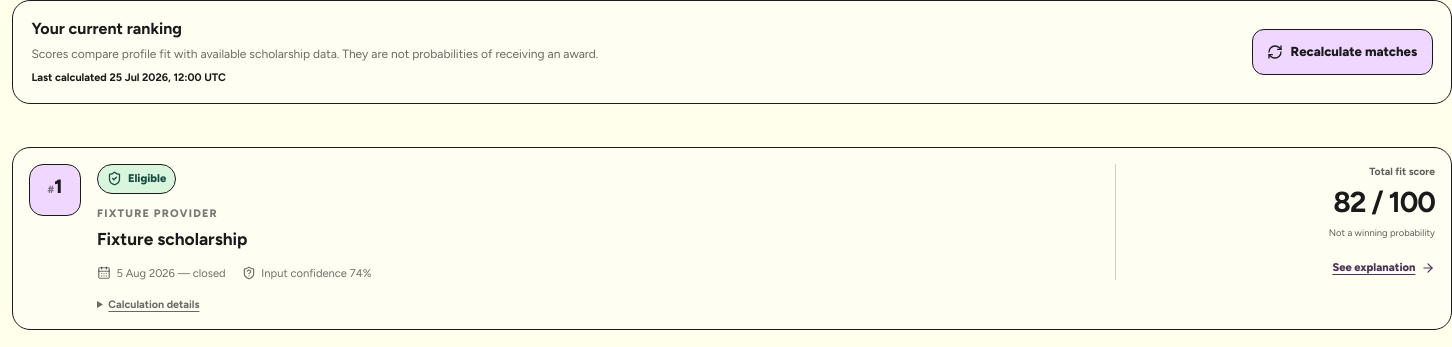
Test: ranked match list › provides actionable rate-limit feedback
Click the button "Recalculate matches" at (1342, 52), box [1252,29,1433,75]
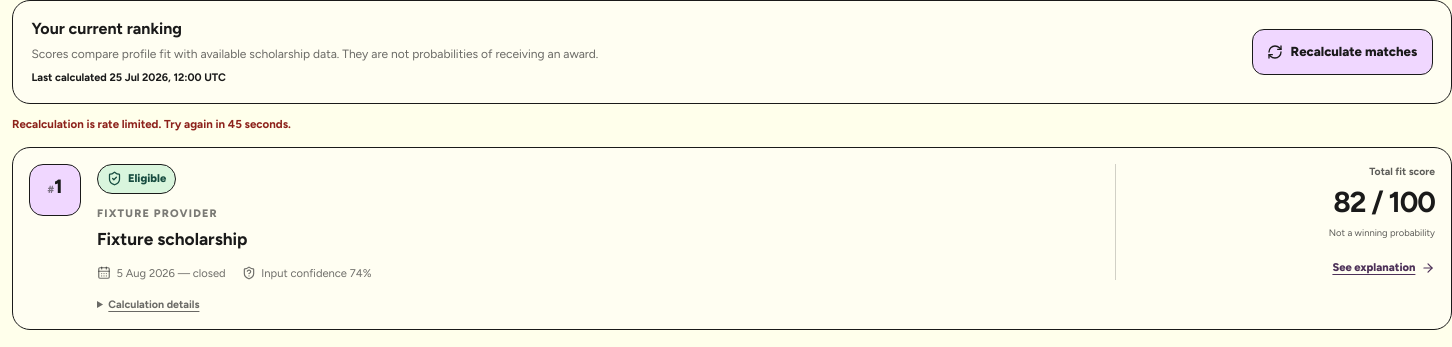
expect the message shows "Try again in 45 seconds": met, box [12,117,291,131]
